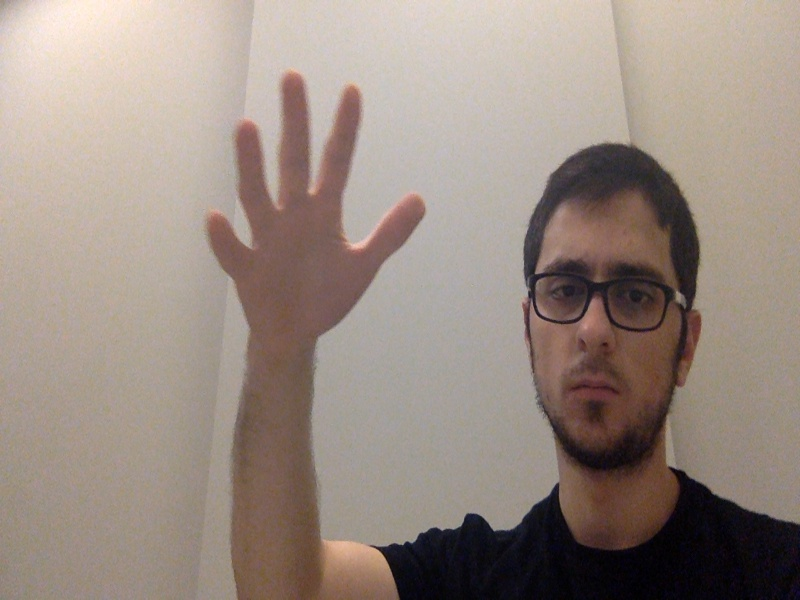5-hand: (204, 69, 431, 350)
